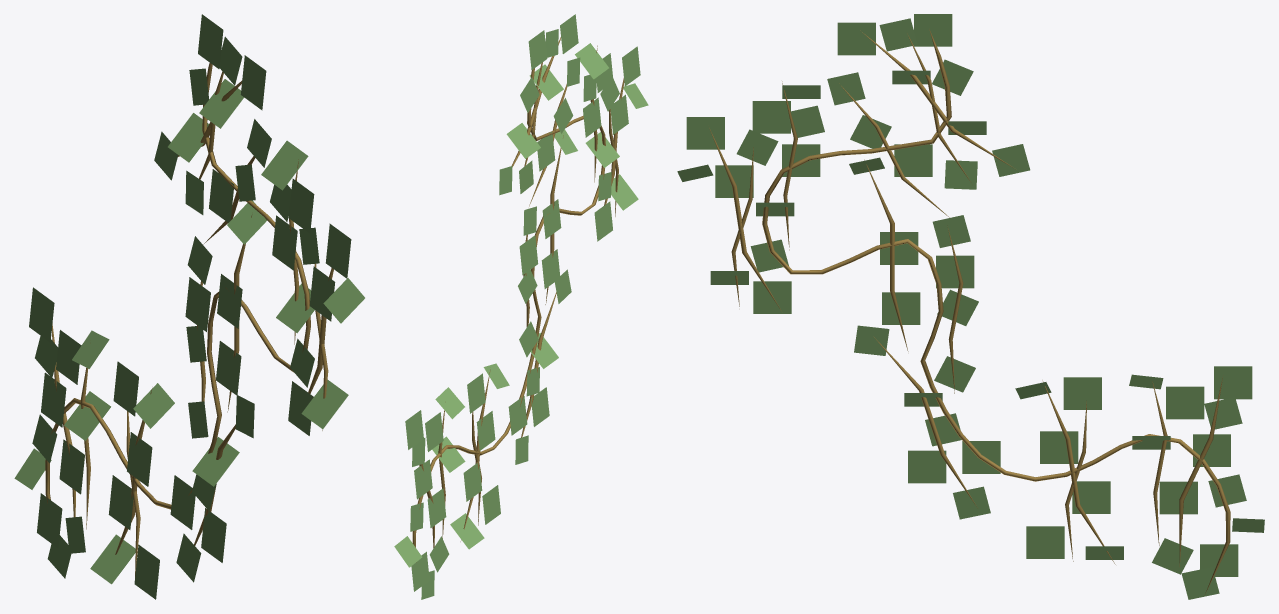
The model's file is SM_Ivy_01.fbx.
3 renders of one model, left to right at view 1: azimuth 30°, elevation 25°; view 2: azimuth 150°, elevation 25°; view 3: azimuth 270°, elevation 25°, orthographic. The views are drawn at different scales.
Parts seen in each view (by area): view 1: SM_Ivy_01; view 2: SM_Ivy_01; view 3: SM_Ivy_01.
Part boxes in pixels (x1,y1,x2,y2): SM_Ivy_01: (14,14,364,599); SM_Ivy_01: (394,14,648,599); SM_Ivy_01: (677,14,1264,599).
Size of the model in its own units: 10.48 by 255 by 231.
